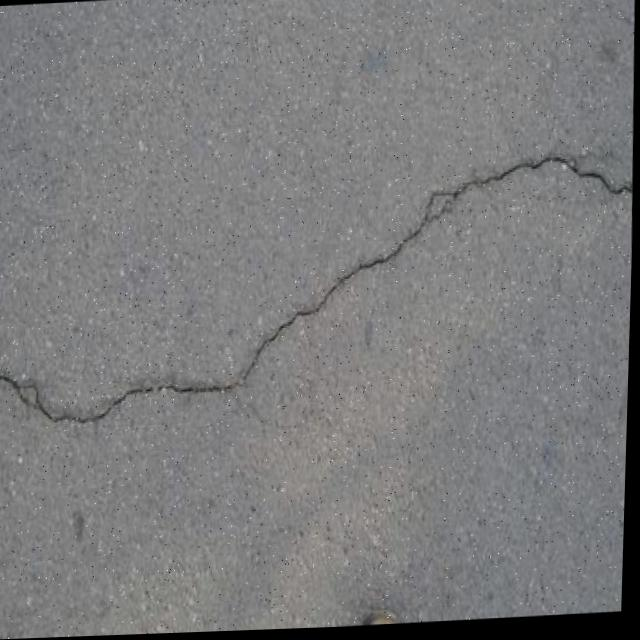Crack: (0, 143, 636, 435)
